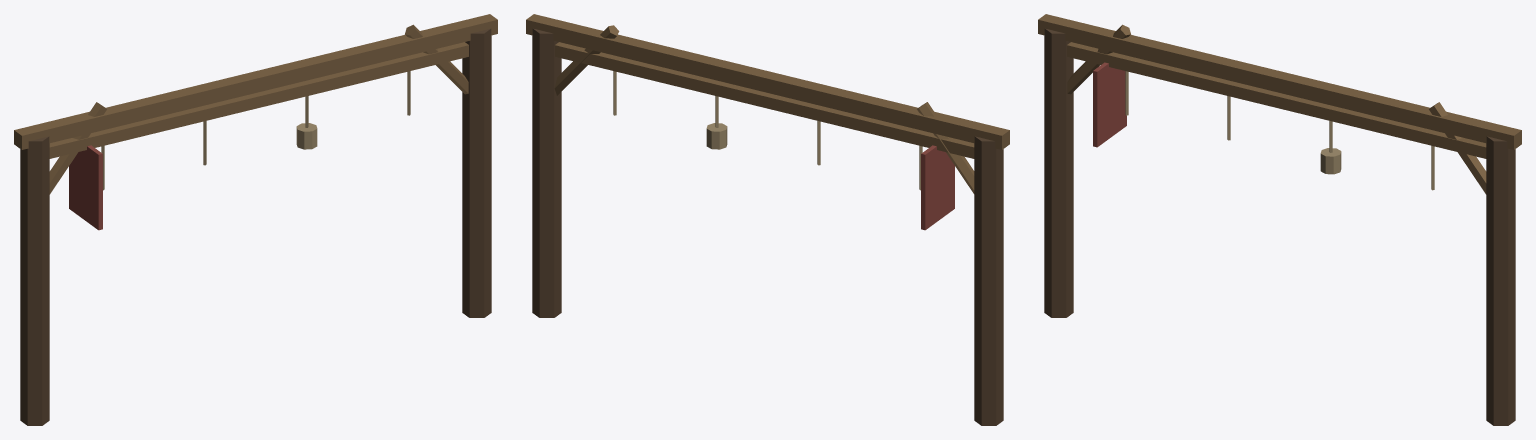
File: K_Gantry.glb
The picture shows the model from 3 angles, left to right: view 1: azimuth 30°, elevation 25°; view 2: azimuth 150°, elevation 25°; view 3: azimuth 330°, elevation 25°; orthographic projection.
Visible parts, largest first — view 1: K_Gantry; view 2: K_Gantry; view 3: K_Gantry.
Part boxes in pixels (x1=…): K_Gantry: x1=14, y1=14, x2=497, y2=425; K_Gantry: x1=526, y1=14, x2=1009, y2=425; K_Gantry: x1=1038, y1=14, x2=1521, y2=425.
Bounding box in the file's own units: 5.6 × 3.4 × 0.6.
